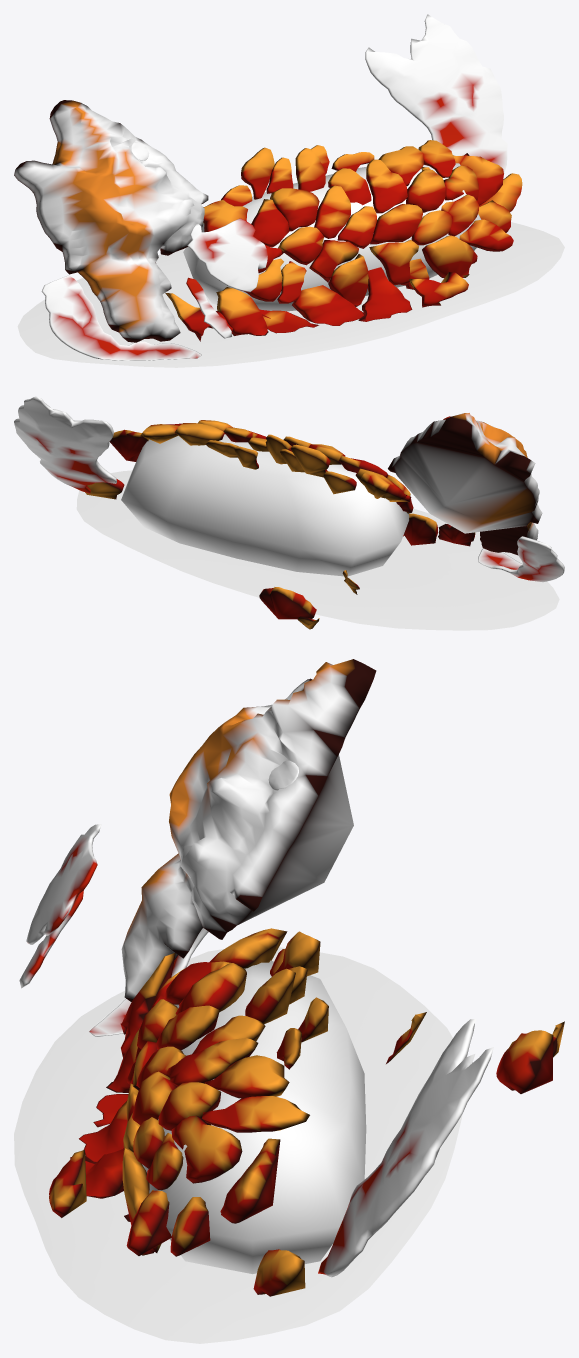
Rendered from SM_D18_wok.fbx.
3 renders of one model, top to bottom at view 1: azimuth 30°, elevation 25°; view 2: azimuth 150°, elevation 25°; view 3: azimuth 270°, elevation 25°, orthographic. The views are drawn at different scales.
Visible parts, largest first — view 1: SM_D18_wok; view 2: SM_D18_wok; view 3: SM_D18_wok.
Part boxes in pixels (x1=…): SM_D18_wok: x1=14, y1=14, x2=564, y2=367; SM_D18_wok: x1=14, y1=396, x2=564, y2=630; SM_D18_wok: x1=14, y1=659, x2=564, y2=1343.
Bounding box in the file's own units: 0.2858 × 0.1107 × 0.1649.
